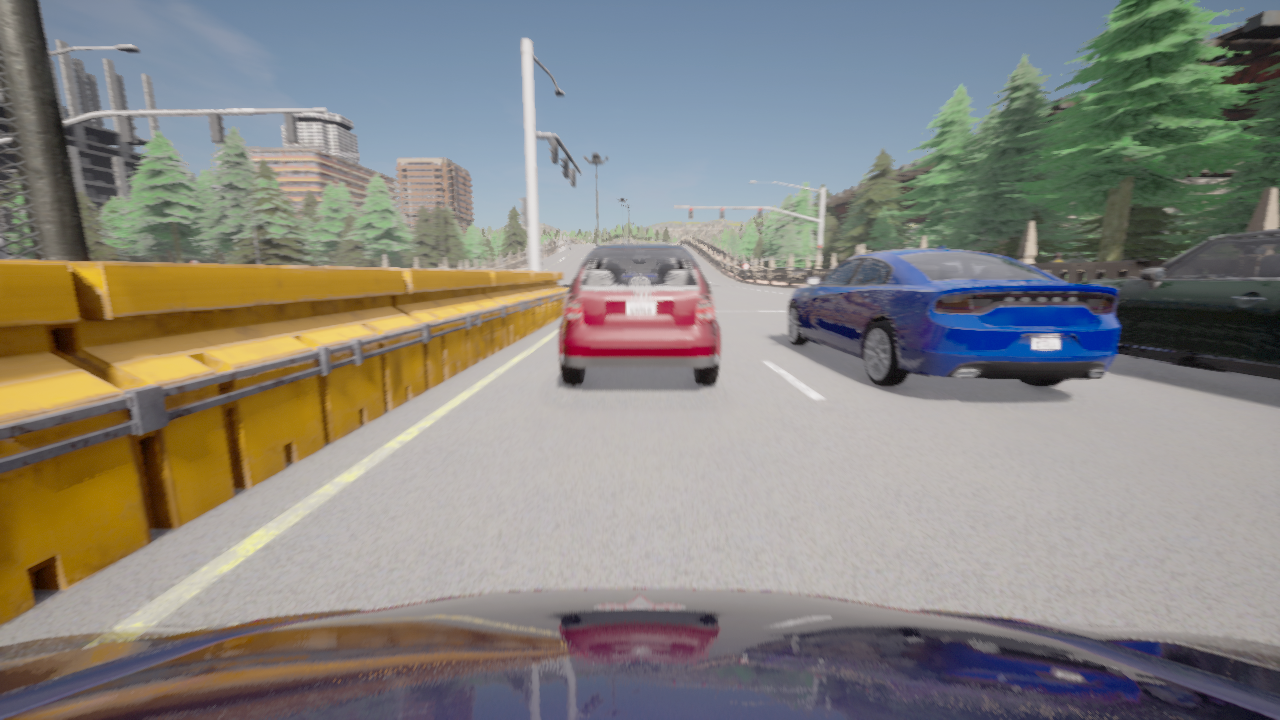cyclist: (0, 588, 1279, 719), (787, 244, 1119, 386), (1075, 229, 1279, 379), (558, 245, 720, 384)
pedestrian: (1052, 253, 1064, 262)
